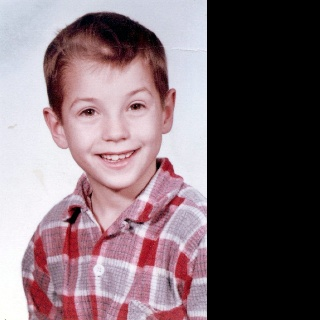without_mask: (42, 12, 176, 190)
